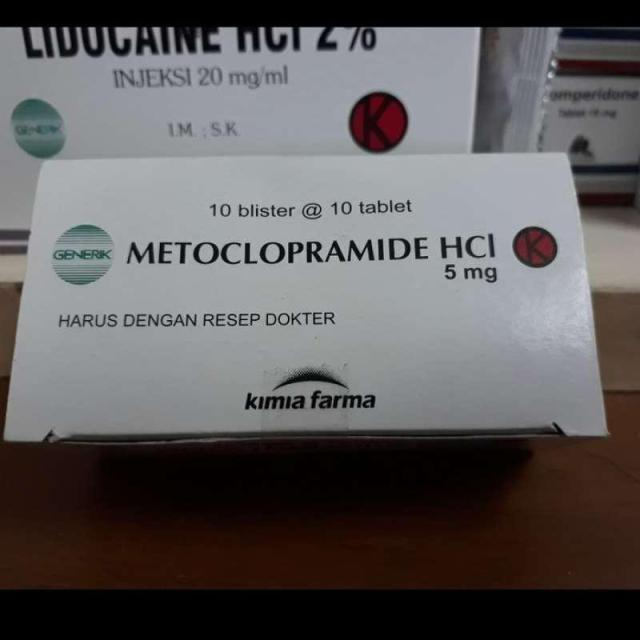drug-name: (121, 224, 502, 266)
